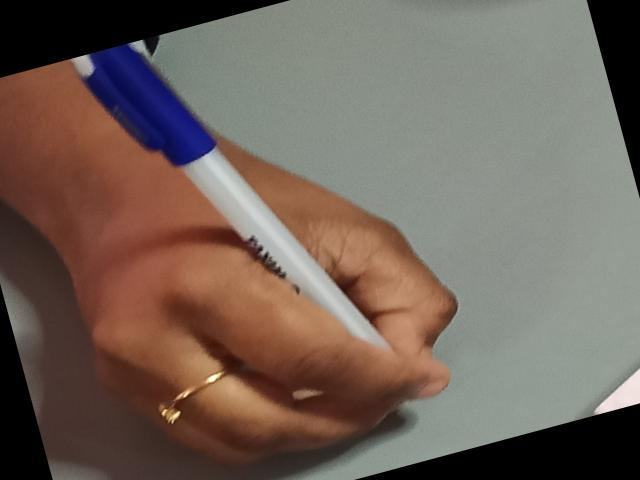PEN: (52, 0, 402, 436)
